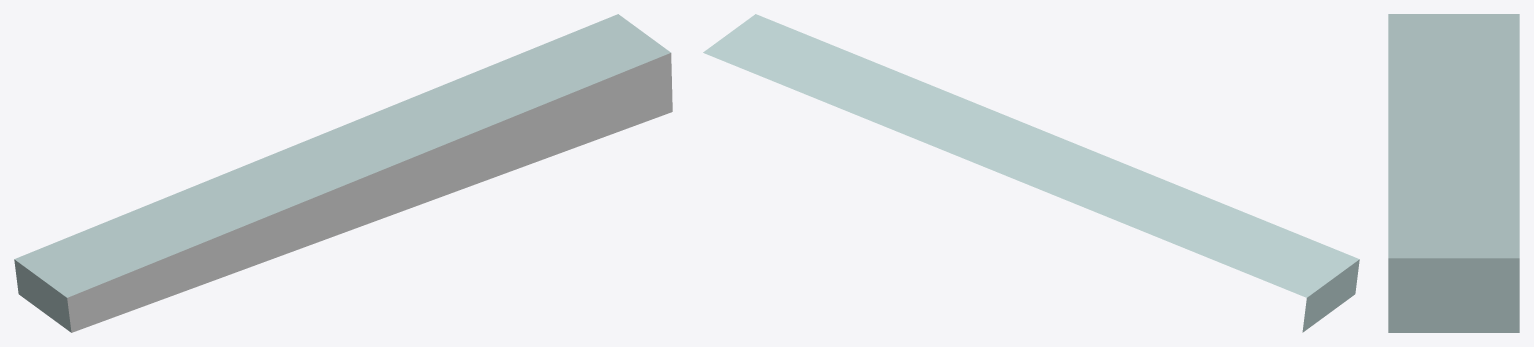
3 views of the same model, side by side, from view 1: azimuth 30°, elevation 25°; view 2: azimuth 150°, elevation 25°; view 3: azimuth 270°, elevation 25° (orthographic). The views are drawn at different scales.
Visible parts, largest first — view 1: 0_2_1_0_2_2_1_2_3; view 2: 0_2_1_0_2_2_1_2_3; view 3: 0_2_1_0_2_2_1_2_3.
Boxes of the visible parts, x1,y1,x2,y2 form: 0_2_1_0_2_2_1_2_3: (14, 14, 672, 332); 0_2_1_0_2_2_1_2_3: (703, 14, 1359, 332); 0_2_1_0_2_2_1_2_3: (1388, 14, 1519, 332).
Size of the model in its own units: 19.82 by 4.19 by 3.
